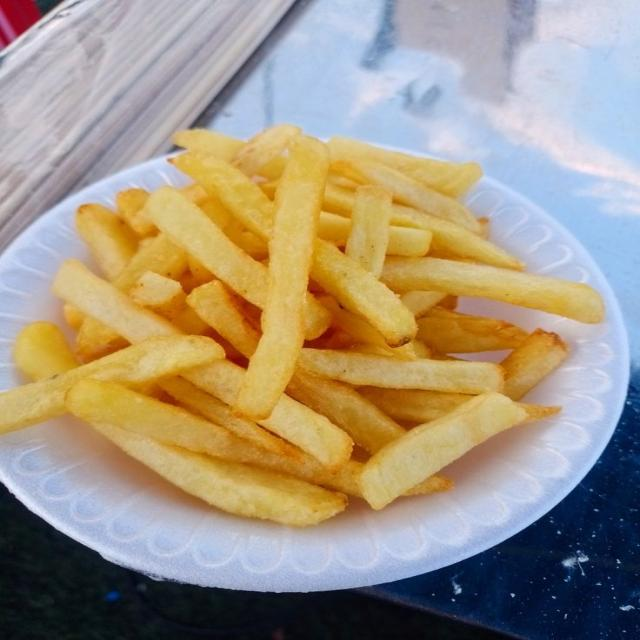potato fries: (0, 125, 603, 525), (234, 136, 328, 419), (382, 258, 604, 322)
